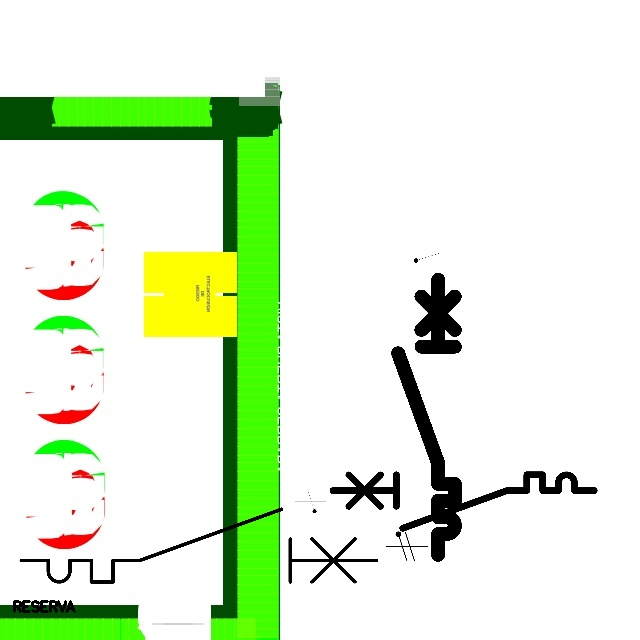interruptor_termomagnetico: (12, 500, 386, 591), (391, 272, 462, 561), (326, 468, 601, 535)
